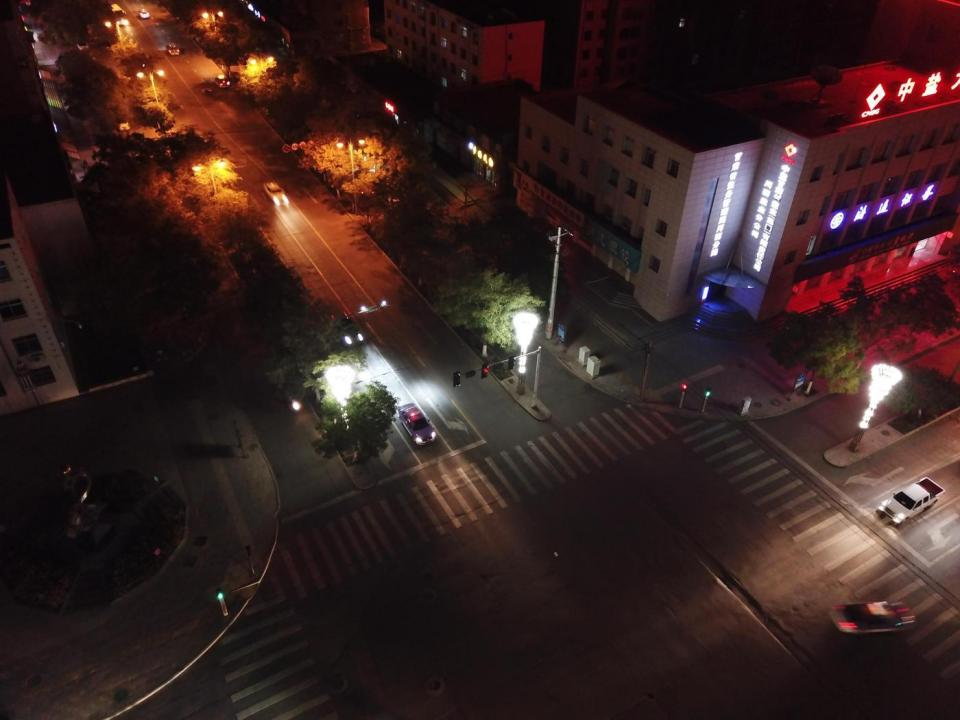bus: (108, 4, 127, 26)
car: (830, 602, 917, 633), (397, 403, 435, 446), (331, 311, 364, 346), (265, 182, 289, 206), (114, 112, 130, 130), (214, 74, 230, 87), (166, 43, 180, 56), (78, 39, 88, 51), (139, 10, 150, 18), (203, 86, 212, 94)
truck: (882, 477, 946, 523)
